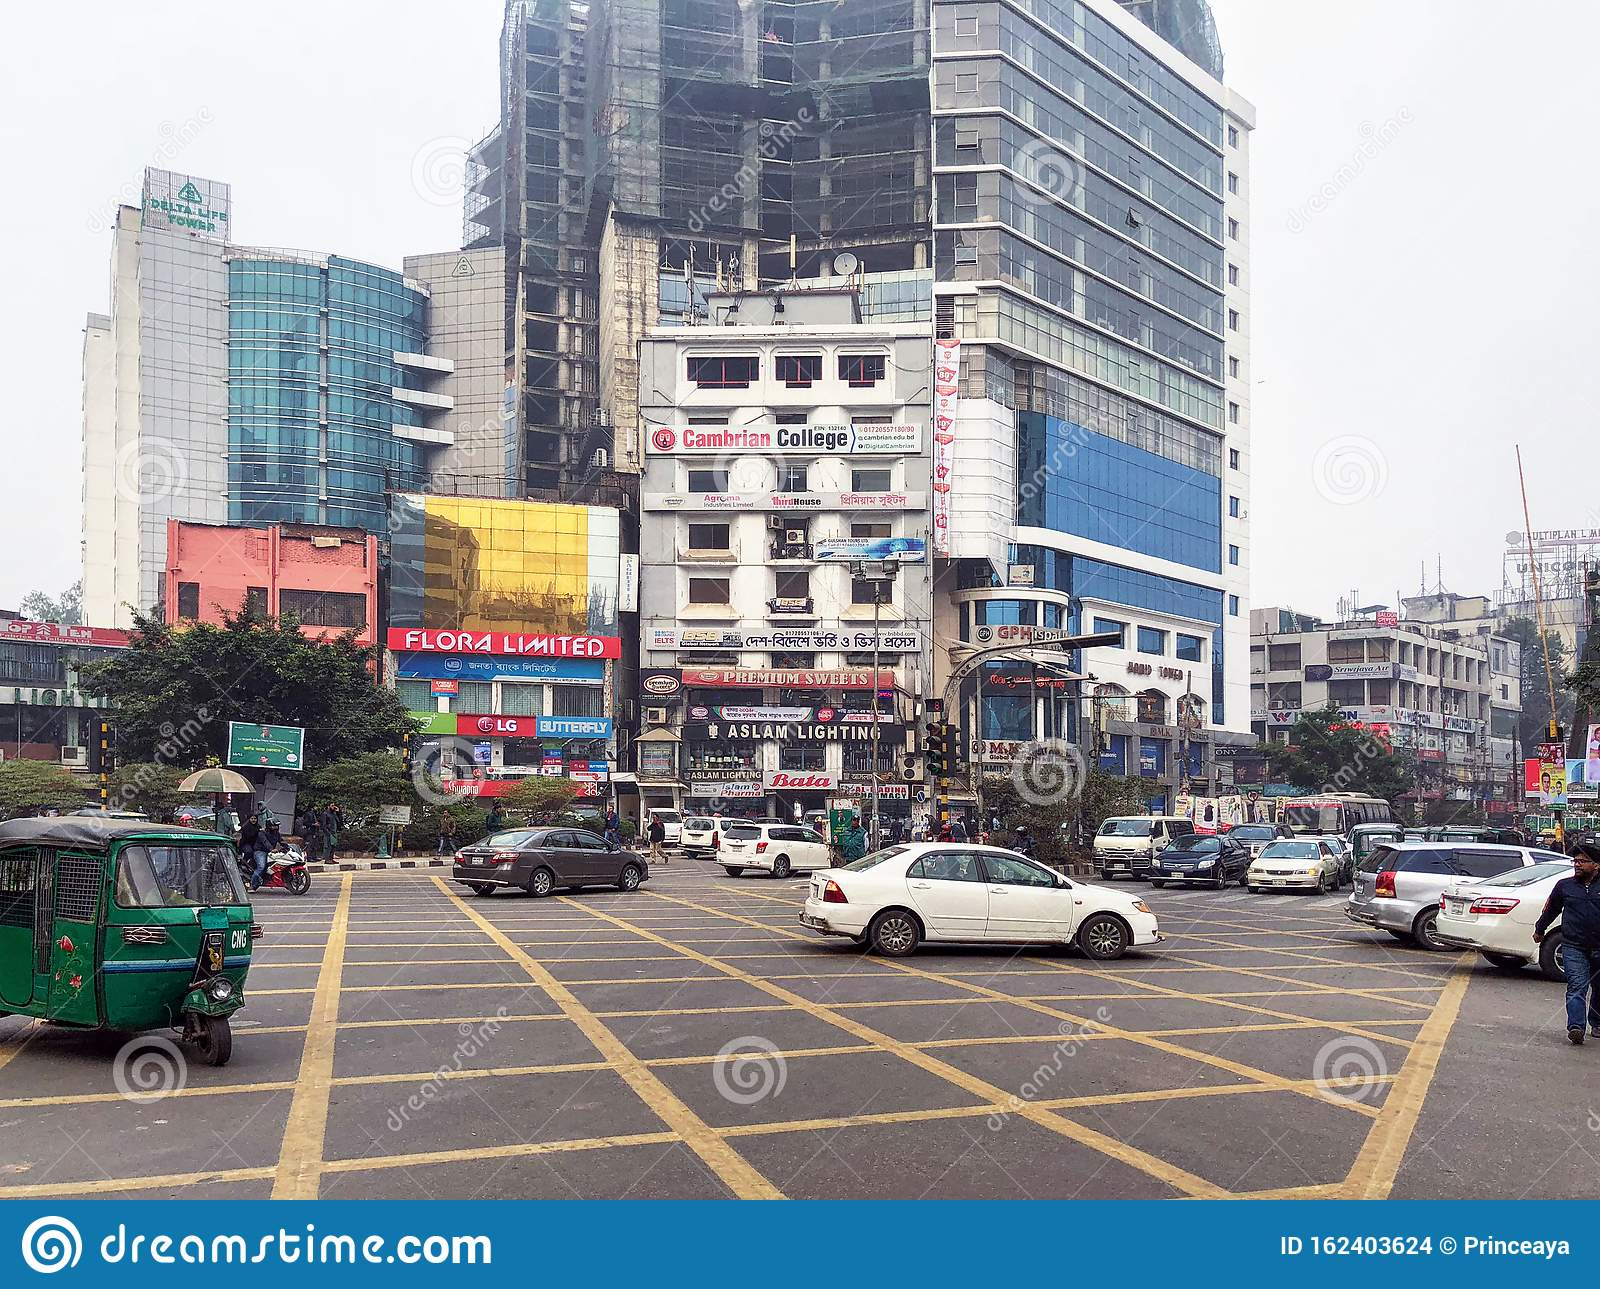car: (802, 840, 1158, 979), (440, 819, 659, 898), (1446, 854, 1582, 975), (1344, 830, 1451, 934), (1086, 812, 1185, 873), (715, 818, 834, 867), (1149, 831, 1238, 894), (1246, 838, 1341, 894)
